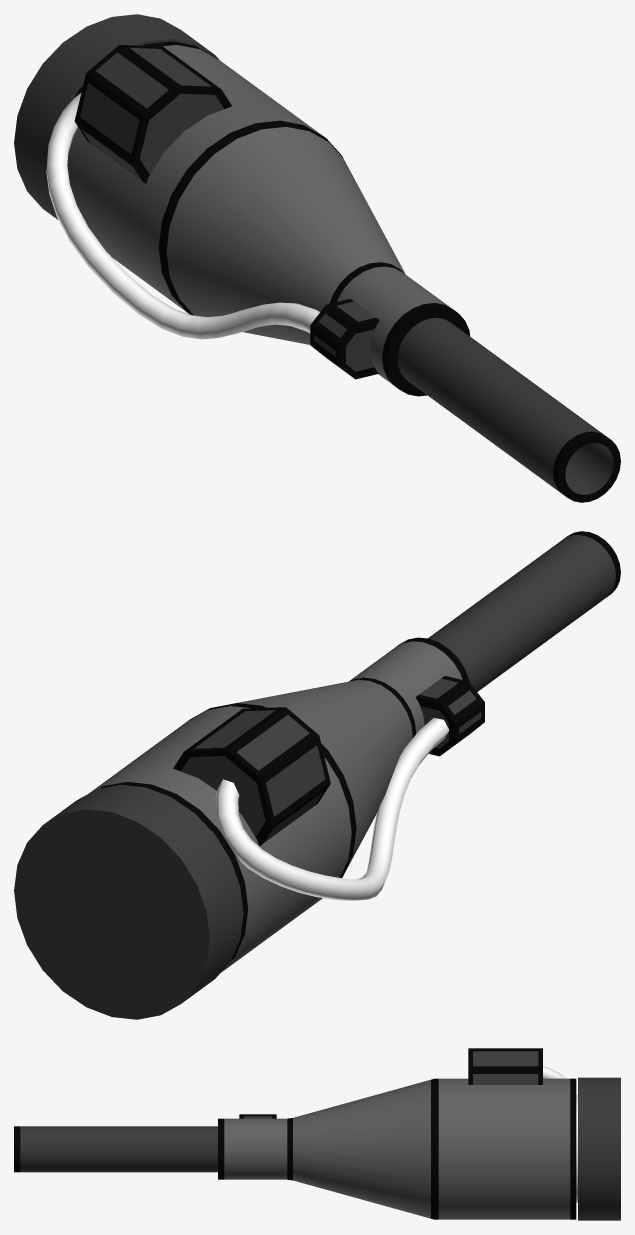
Rendered from LaserGun.fbx.
The picture shows the model from 3 angles, top to bottom: view 1: azimuth 30°, elevation 25°; view 2: azimuth 150°, elevation 25°; view 3: azimuth 270°, elevation 25°; orthographic projection. The views are drawn at different scales.
Parts seen in each view (by area): view 1: Laser Gun, Laser Gun Barrle; view 2: Laser Gun Barrle, Laser Gun; view 3: Laser Gun, Laser Gun Barrle.
Boxes of the visible parts, x1=… form: Laser Gun: x1=46, y1=41, x2=470, y2=396; Laser Gun Barrle: x1=14, y1=14, x2=620, y2=502; Laser Gun Barrle: x1=14, y1=531, x2=620, y2=1019; Laser Gun: x1=90, y1=637, x2=484, y2=972; Laser Gun: x1=218, y1=1048, x2=576, y2=1219; Laser Gun Barrle: x1=14, y1=1077, x2=620, y2=1220.
Size of the model in its own units: 1.61 by 5.64 by 1.53.
